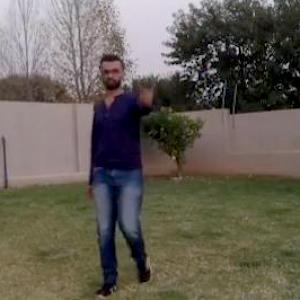takeoff-hand: (138, 74, 161, 110)
